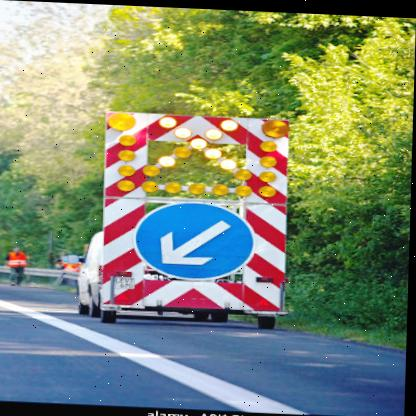Keep left: (134, 195, 258, 279)
